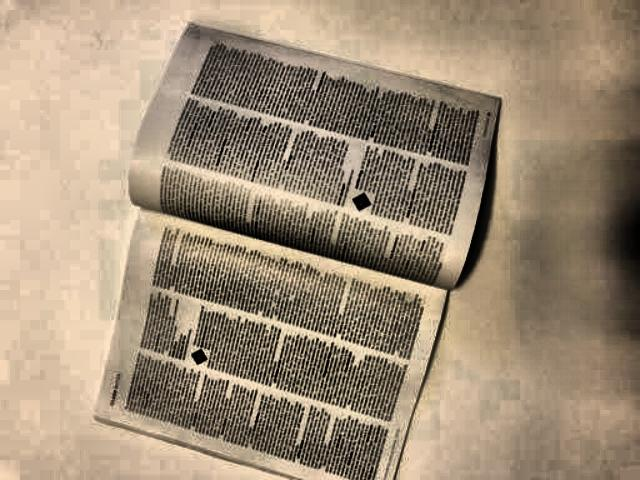Paper: (87, 20, 506, 480)
